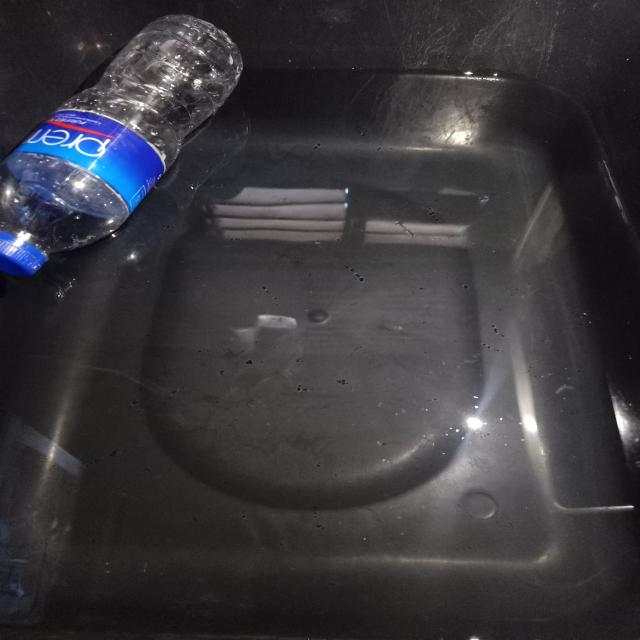Plastic Bottle: (0, 15, 243, 276)
